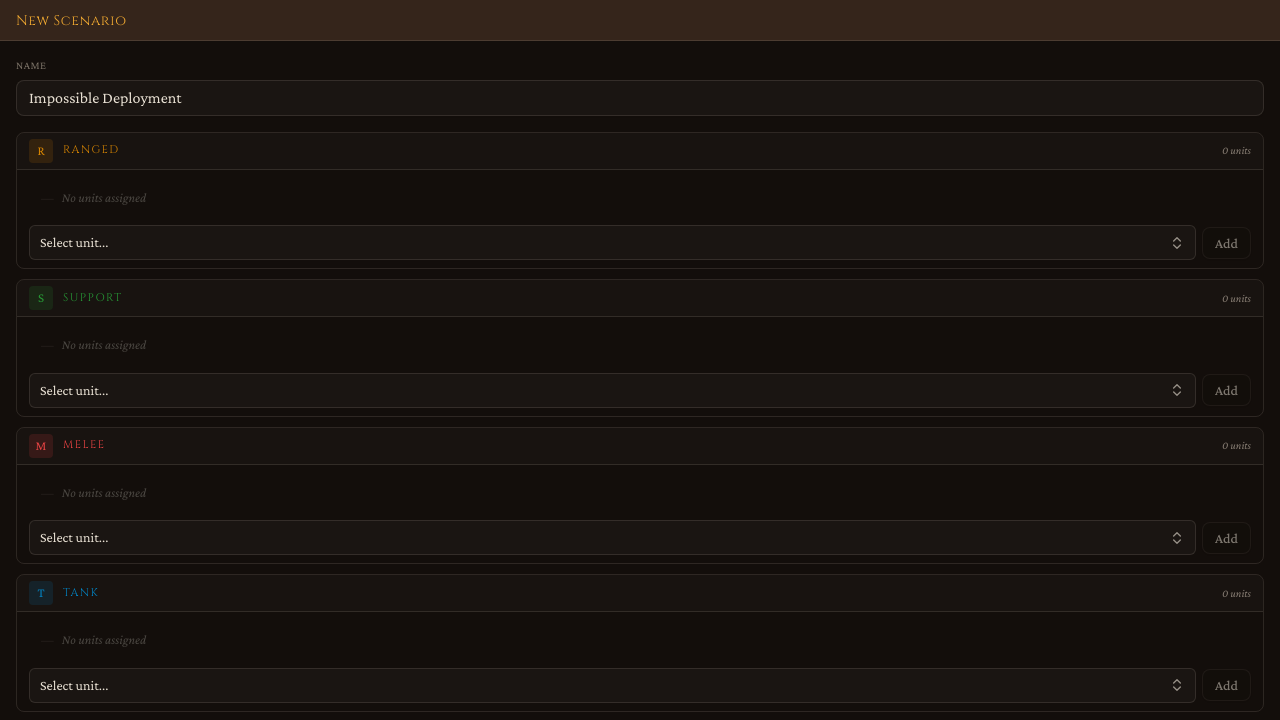
Test: ScenarioWorkspace › offers no row when equipped item restrictions have an empty intersection
Step 1. Click the dropdown with test id "scenario-row-tank-picker" → click(74, 684), box [29, 668, 1196, 702]
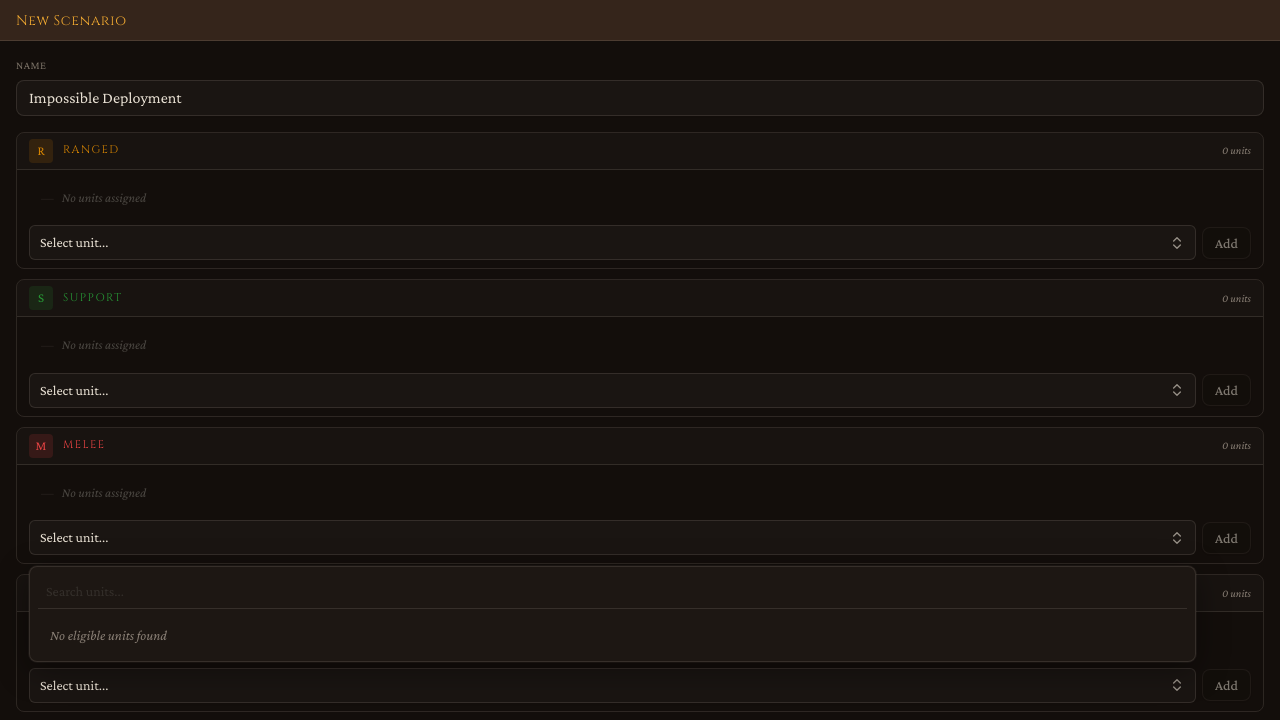
Result: the text with test id "scenario-row-tank-picker-empty" reads "No eligible units found" at [50, 627, 167, 643]
